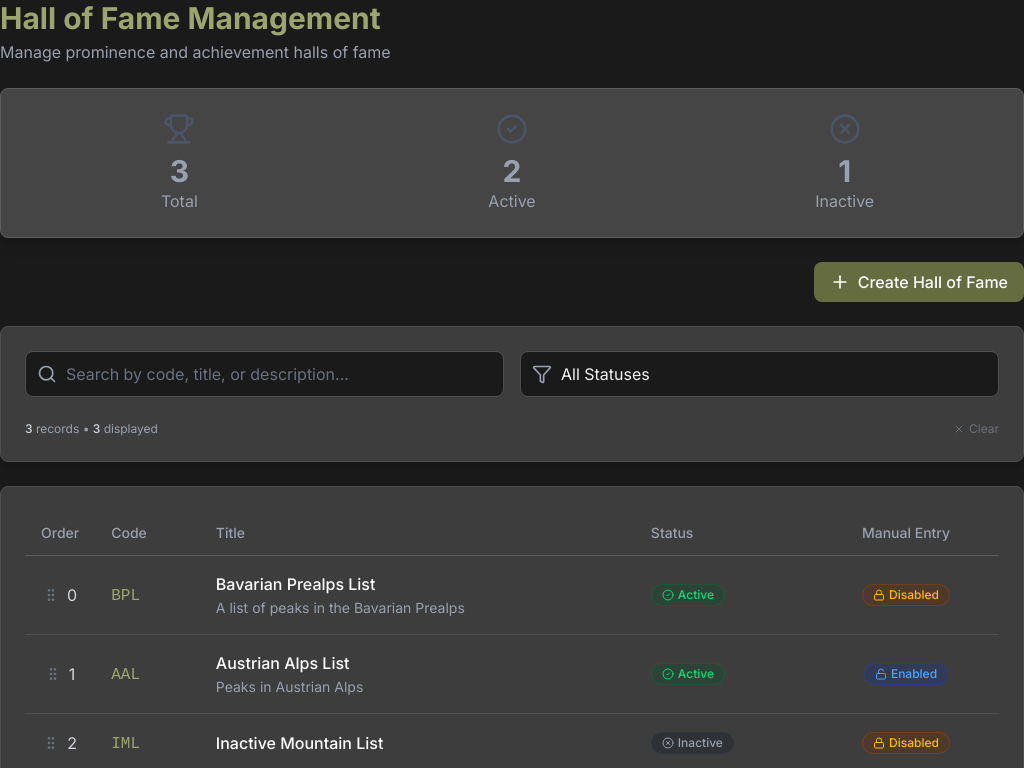
HofManagement › should filter by title search
This screenshot has width=1024, height=768.
Check: the text "AAL" is shown, box [111,666,140,684]
Step 1. Type "Austrian" into the field with placeholder "Search by code, title, or description..." → (264, 374), box [25,351,504,397]
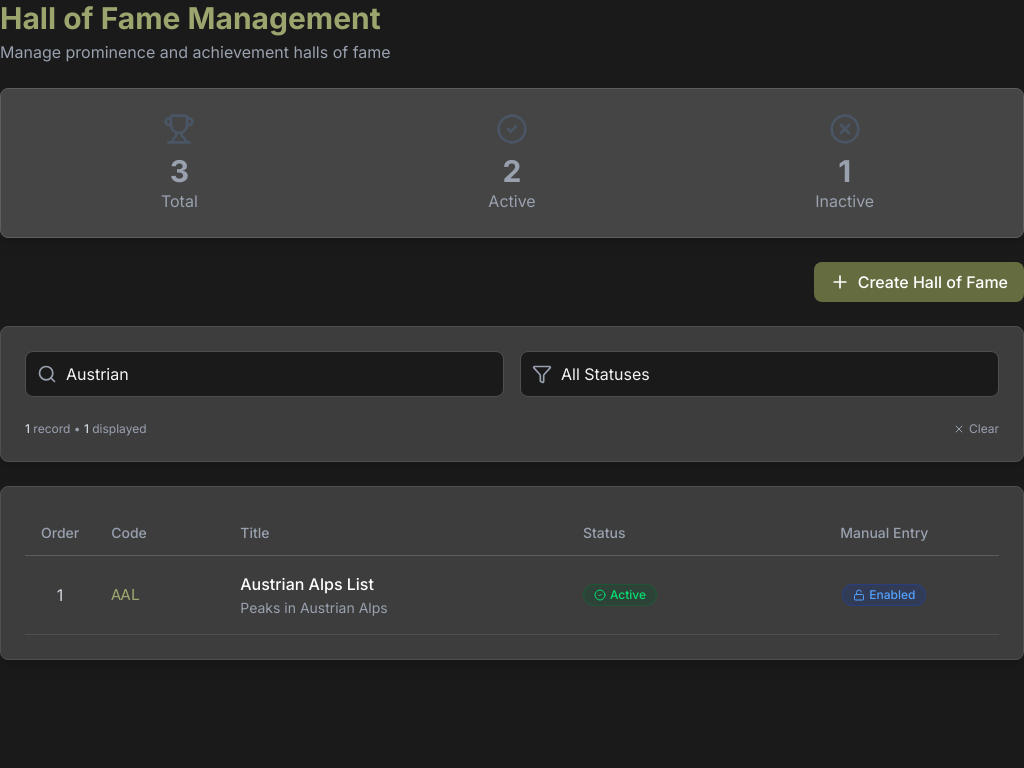
Check: the text "AAL" is shown, box [111,587,140,605]
Check: the text "BPL" is gone
